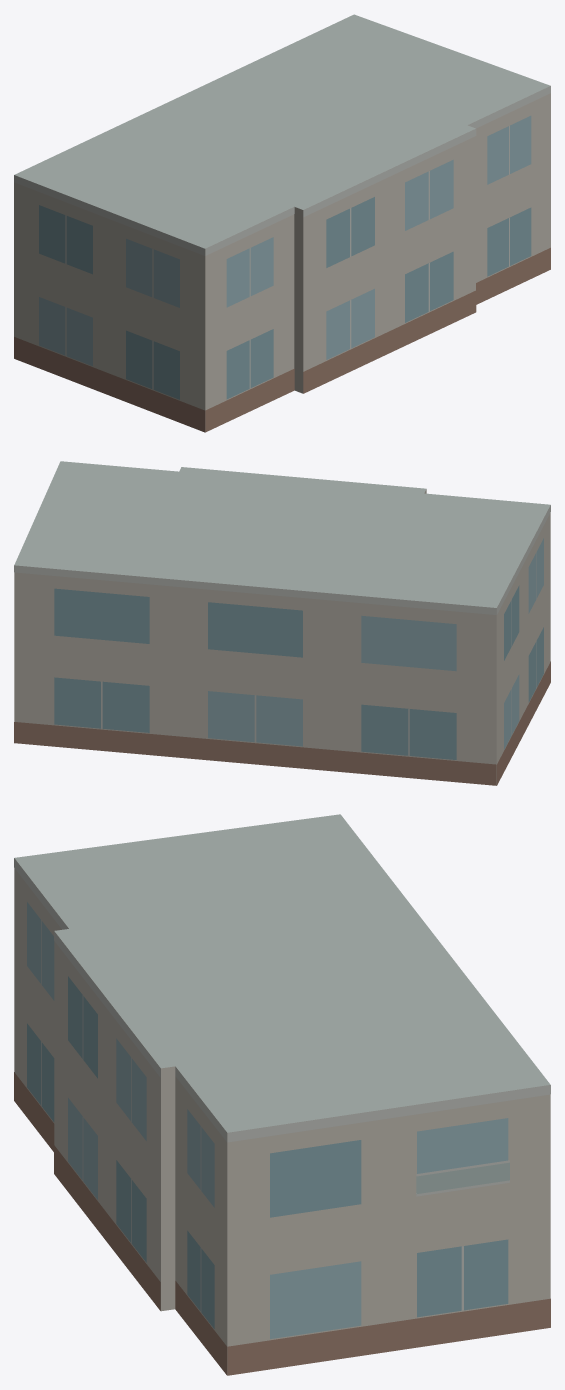
File: survey-upis-32913966.glb
3 views of the same model, one above another, from view 1: azimuth 30°, elevation 25°; view 2: azimuth 150°, elevation 25°; view 3: azimuth 270°, elevation 25° (orthographic). The views are drawn at different scales.
Parts seen in each view (by area): view 1: survey-upis-32913966.tmp; view 2: survey-upis-32913966.tmp; view 3: survey-upis-32913966.tmp.
Part boxes in pixels (x1,y1,x2,y2): survey-upis-32913966.tmp: (14, 14, 550, 432); survey-upis-32913966.tmp: (14, 461, 550, 785); survey-upis-32913966.tmp: (14, 814, 550, 1375).
Size of the model in its own units: 17.17 by 6.1 by 12.22.
